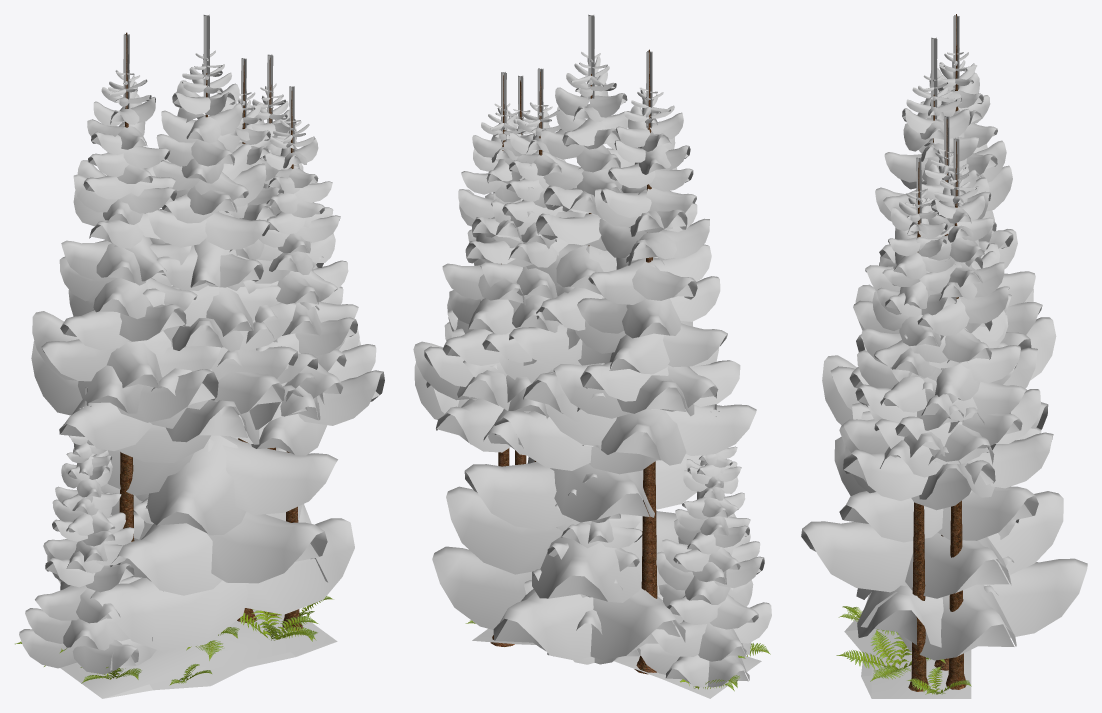
Rendered from foliageprefab_doublepar001.fbx.
The picture shows the model from 3 angles, left to right: view 1: azimuth 30°, elevation 25°; view 2: azimuth 150°, elevation 25°; view 3: azimuth 270°, elevation 25°; orthographic projection. The views are drawn at different scales.
Visible parts, largest first — view 1: polySurface1; view 2: polySurface1; view 3: polySurface1.
Boxes of the visible parts, left/top/right/bottom form: polySurface1: left=15, top=14, right=384, bottom=698; polySurface1: left=413, top=14, right=771, bottom=698; polySurface1: left=801, top=14, right=1087, bottom=698.
Bounding box in the file's own units: 559 × 1021 × 431.
